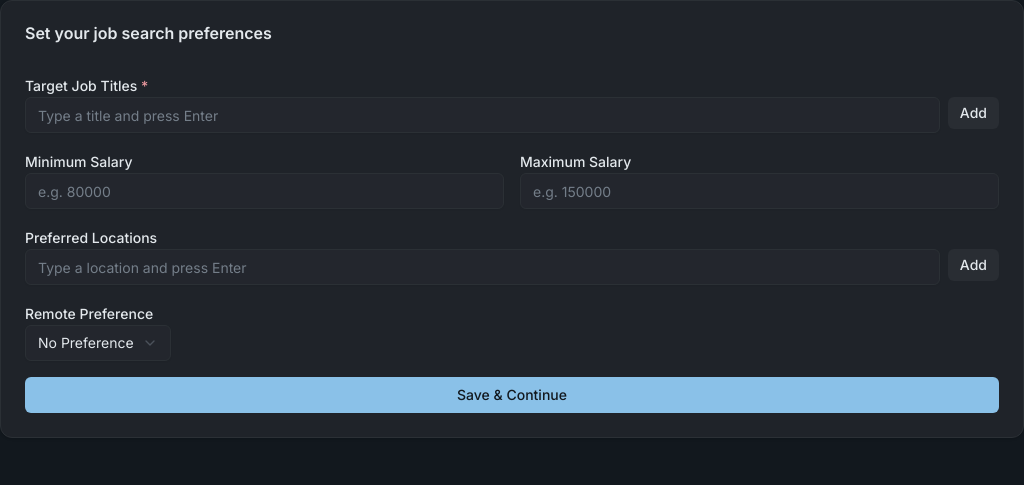
Scenario: PreferencesStep › [P1] should remove title chip on X click
This screenshot has width=1024, height=485.
Type "Engineer" into the field labelled "Target Job Titles *" at [482, 115], box top-left (25, 97), bottom-right (940, 133)
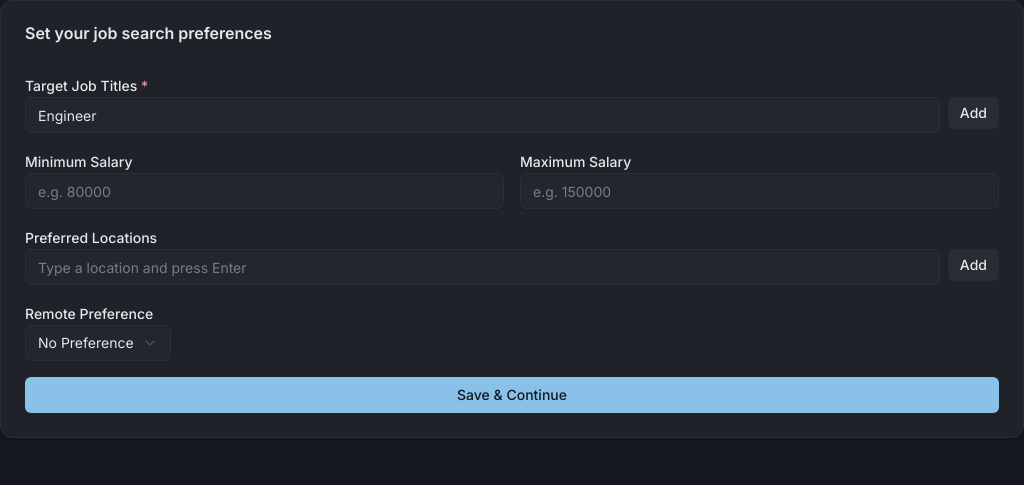
Press Enter in the field labelled "Target Job Titles *", box top-left (25, 97), bottom-right (940, 133)
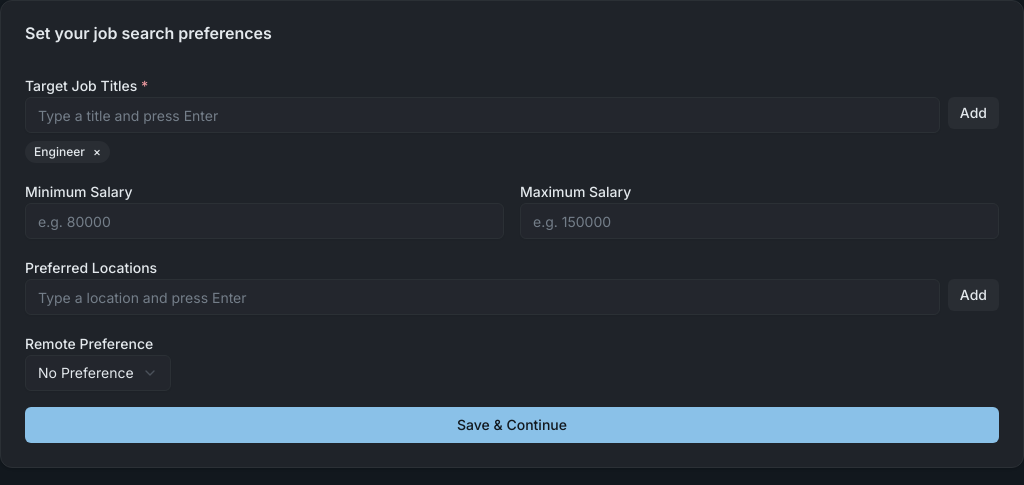
Expected: the text "Engineer" is shown, top-left (34, 144), bottom-right (85, 159)
Click the button named "Remove Engineer" at [97, 152], box top-left (93, 144), bottom-right (101, 160)
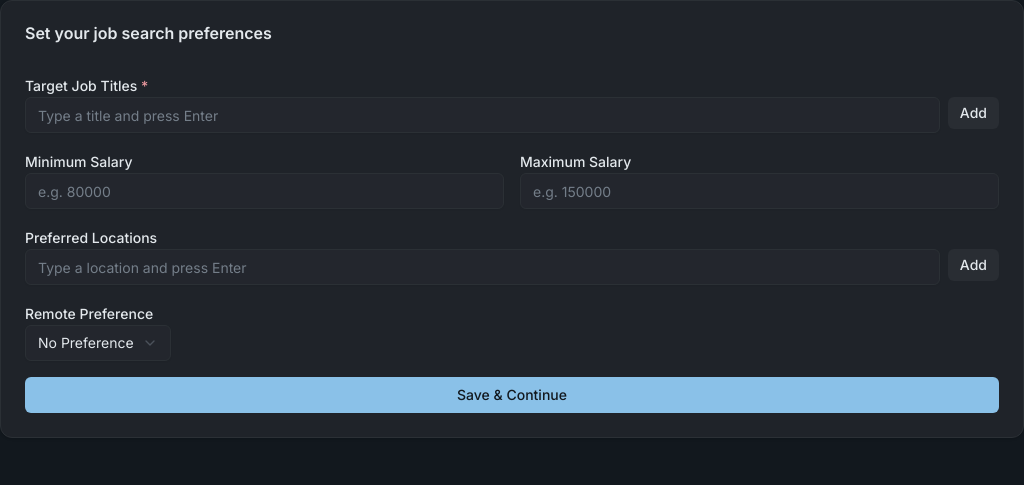
Expected: the text "Engineer" is gone
